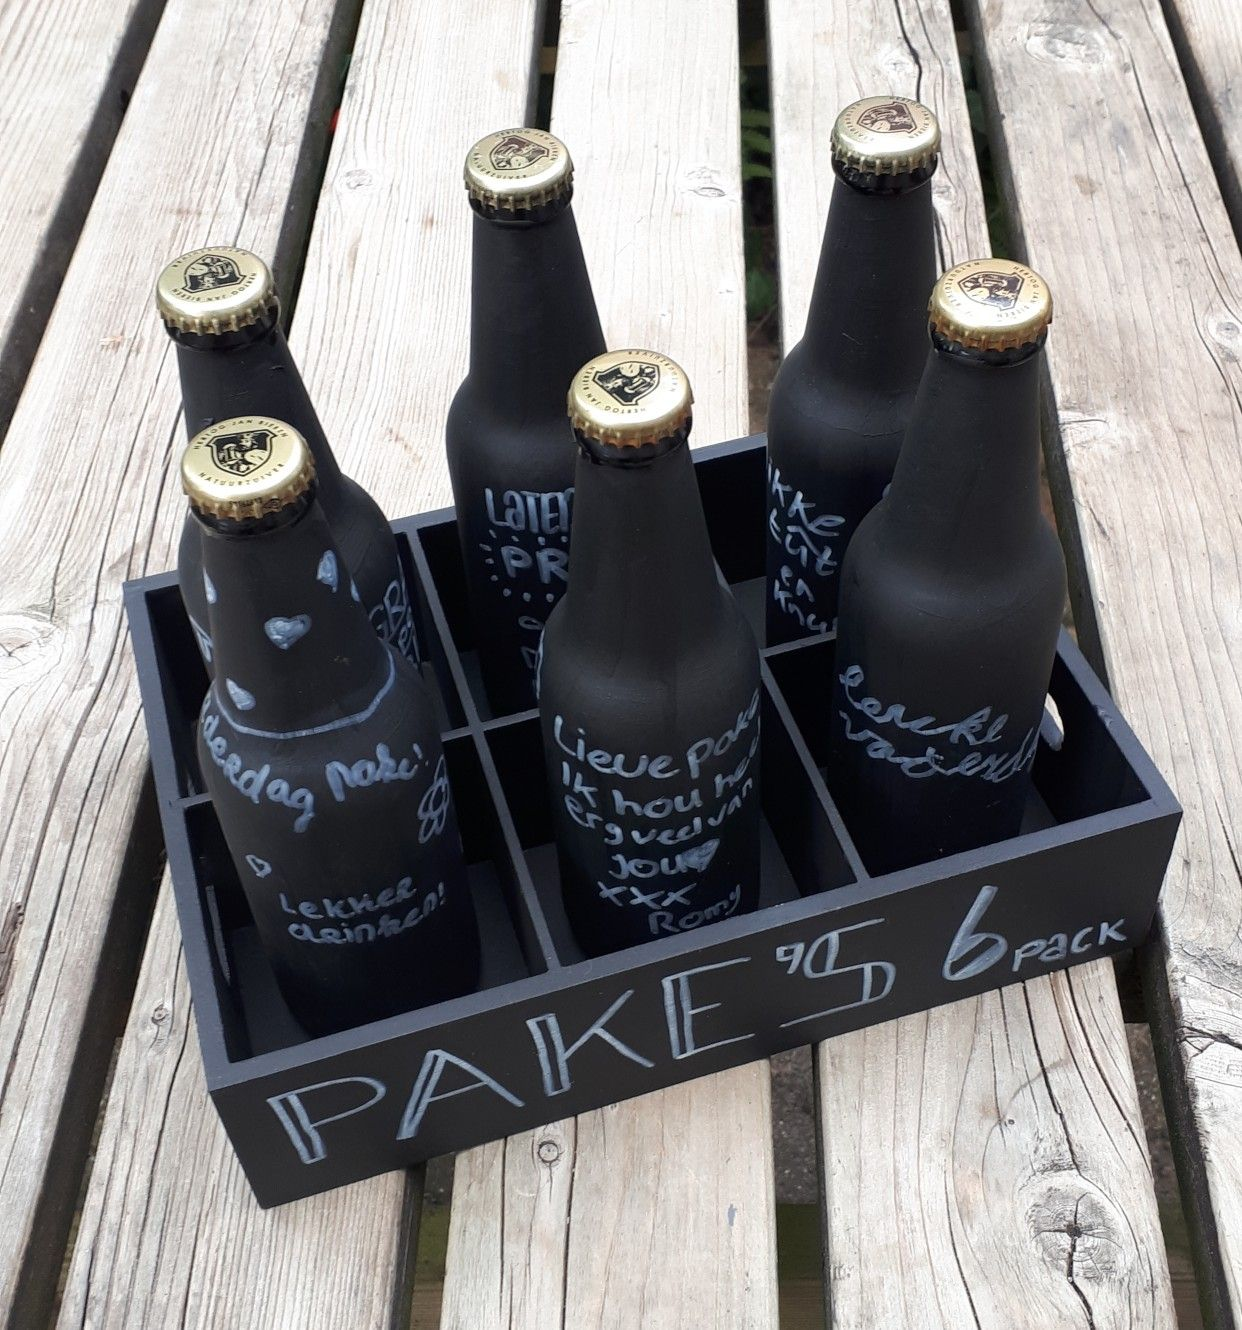hertog jan: (181, 412, 314, 518), (924, 257, 1058, 348), (568, 349, 695, 444), (156, 245, 275, 333), (465, 127, 573, 211), (830, 95, 943, 172)
